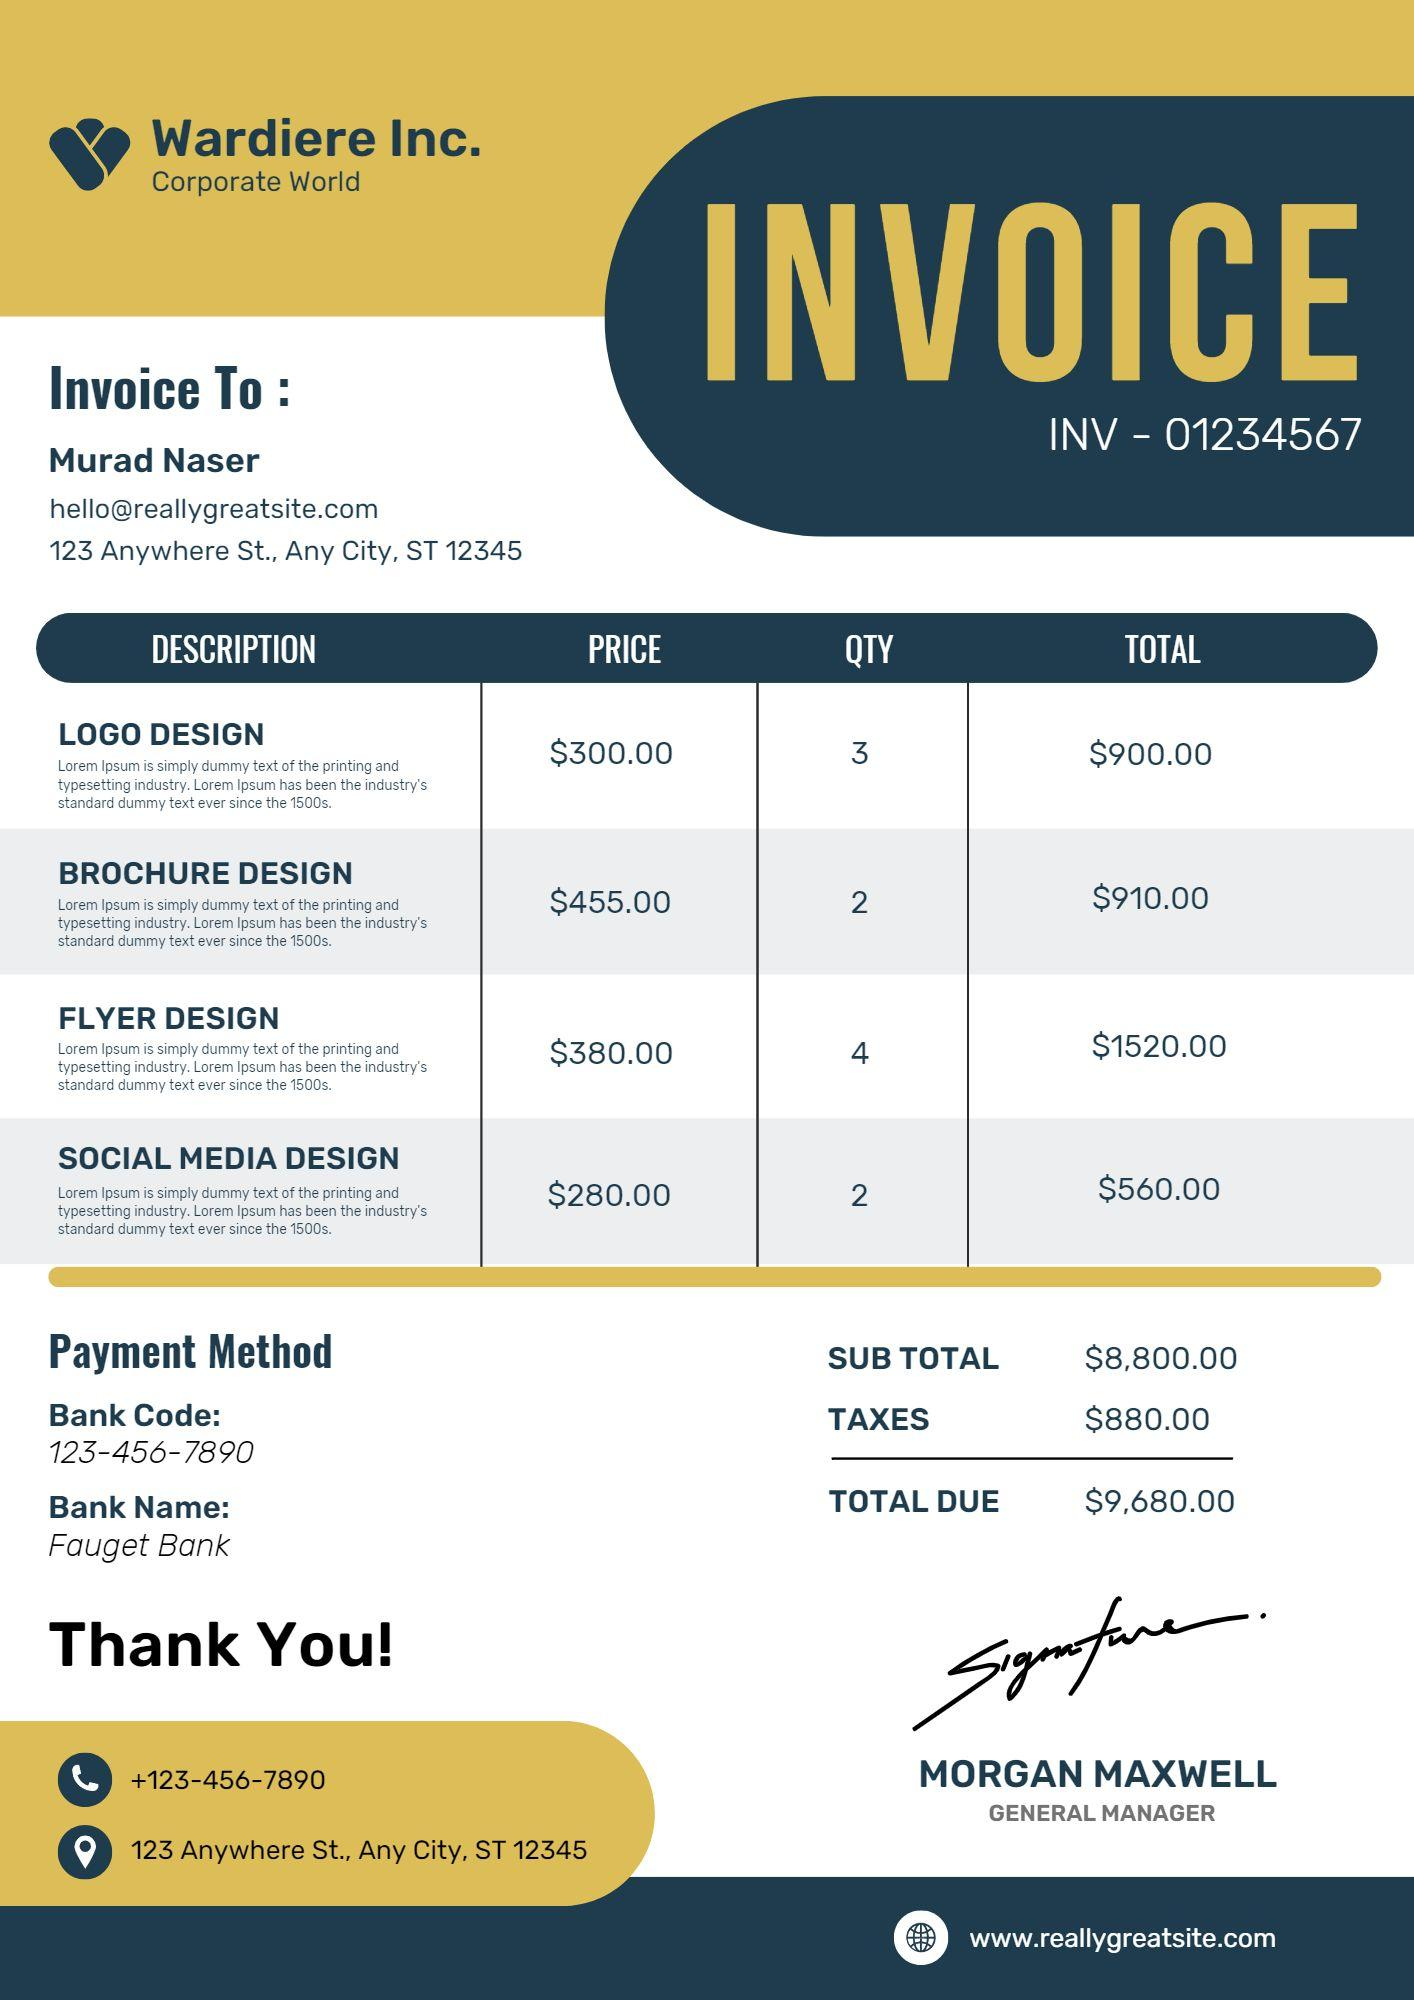ROI: (21, 595, 1390, 1298)
